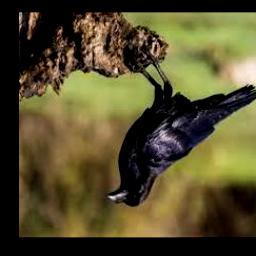Crow: (105, 50, 256, 208)
